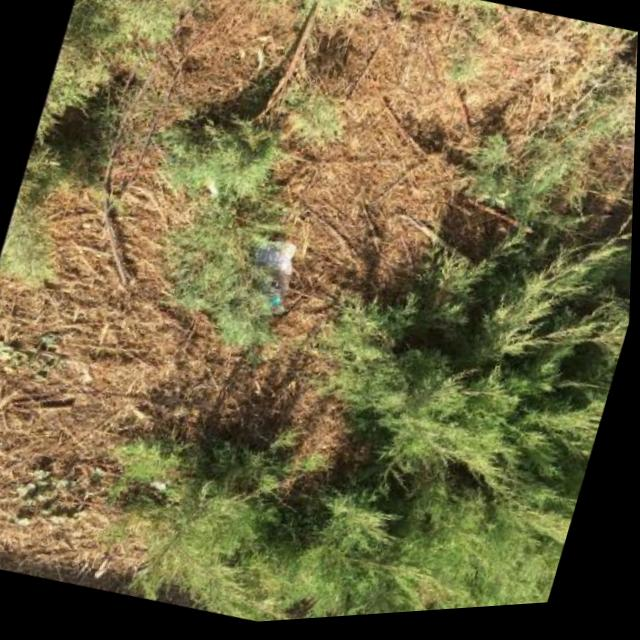plastic: (235, 232, 303, 322)
